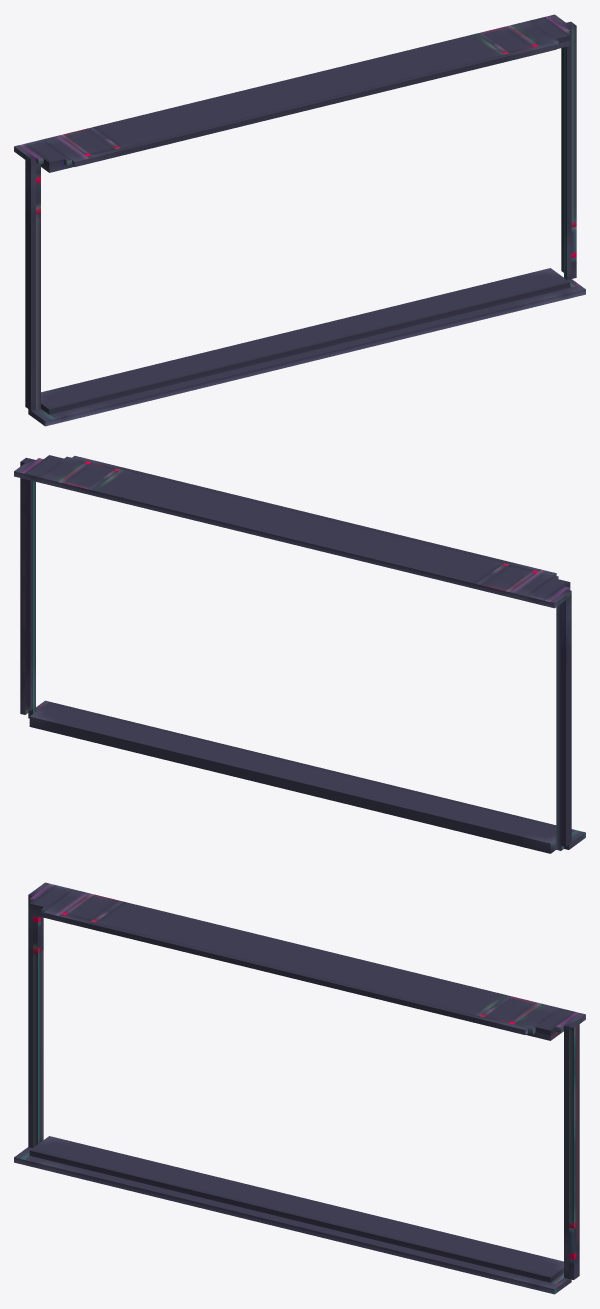
The model's file is Entrance_Frame_B_00.fbx.
3 views of the same model, one above another, from view 1: azimuth 30°, elevation 25°; view 2: azimuth 150°, elevation 25°; view 3: azimuth 330°, elevation 25° (orthographic).
Visible parts, largest first — view 1: Entrance_Frame_B_00; view 2: Entrance_Frame_B_00; view 3: Entrance_Frame_B_00.
Boxes of the visible parts, x1,y1,x2,y2 form: Entrance_Frame_B_00: (14,14,585,426); Entrance_Frame_B_00: (14,455,585,853); Entrance_Frame_B_00: (14,882,585,1294).
Size of the model in its own units: 555 by 250 by 55.
